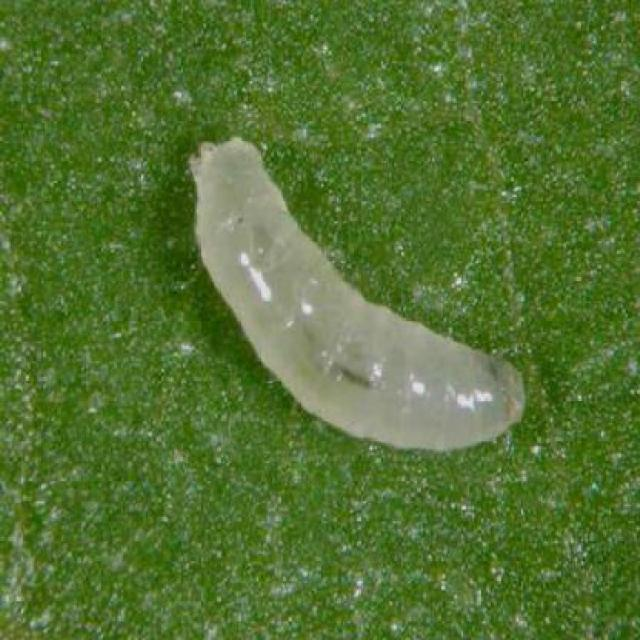whorl-maggot: (180, 130, 532, 462)
